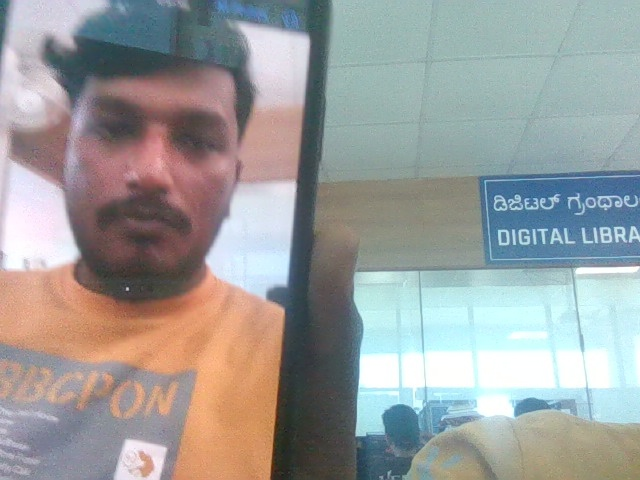fake: (39, 0, 270, 328)
